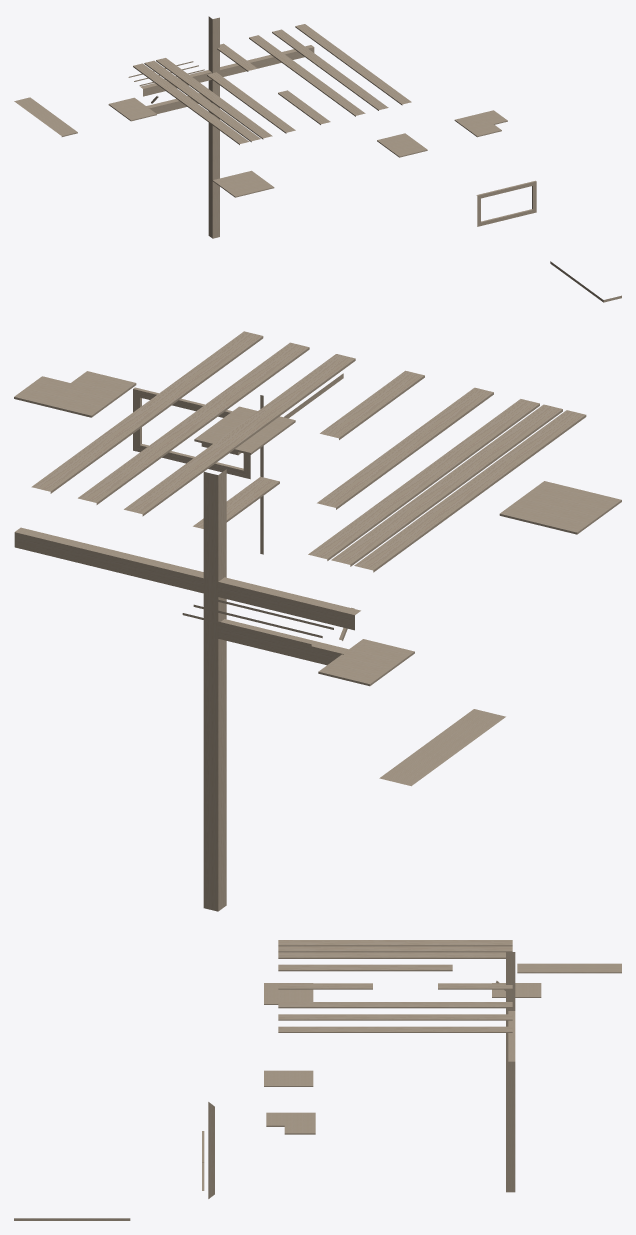
Rendered from kd_stage_135d18_4_20.glb.
The picture shows the model from 3 angles, top to bottom: view 1: azimuth 30°, elevation 25°; view 2: azimuth 150°, elevation 25°; view 3: azimuth 270°, elevation 25°; orthographic projection. The views are drawn at different scales.
Parts seen in each view (by area): view 1: kd_stage_135d18_4_20; view 2: kd_stage_135d18_4_20; view 3: kd_stage_135d18_4_20.
Part boxes in pixels (left/top/right/bottom): kd_stage_135d18_4_20: left=14, top=16, right=621, bottom=302; kd_stage_135d18_4_20: left=14, top=331, right=621, bottom=911; kd_stage_135d18_4_20: left=14, top=940, right=621, bottom=1220.
Bounding box in the file's own units: 6.96 × 4.3 × 9.86.
Materials: 1 (1 with a texture image).
